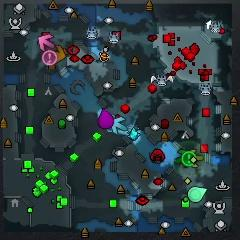Other: (42, 50, 57, 66), (182, 152, 197, 167)
p2: (188, 186, 207, 202)
p3: (98, 107, 114, 128)
x1: (38, 34, 54, 50)
x2: (189, 149, 204, 168)
x3: (111, 117, 128, 133)
x4: (174, 149, 189, 164)
x5: (53, 45, 66, 62)
